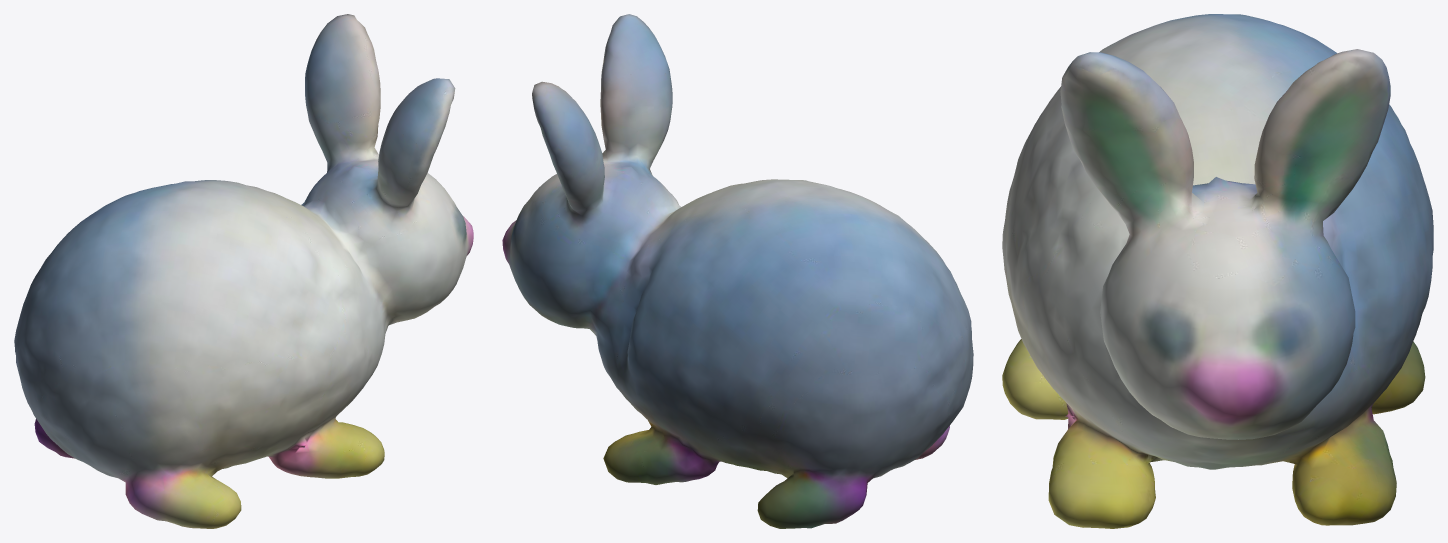
The model's file is 050_Create_rabbit_with_Oval_face_with_intense_eyes_a_neutr_0614163357_preview.obj.
The picture shows the model from 3 angles, left to right: view 1: azimuth 30°, elevation 25°; view 2: azimuth 150°, elevation 25°; view 3: azimuth 270°, elevation 25°; orthographic projection. The views are drawn at different scales.
Visible parts, largest first — view 1: Mesh1; view 2: Mesh1; view 3: Mesh1.
Part boxes in pixels (x1=…): Mesh1: x1=14, y1=14, x2=473, y2=528; Mesh1: x1=502, y1=14, x2=973, y2=528; Mesh1: x1=1002, y1=14, x2=1433, y2=528.
Size of the model in its own units: 1.2 by 0.9858 by 0.7145.
1 material, 1 textured.
